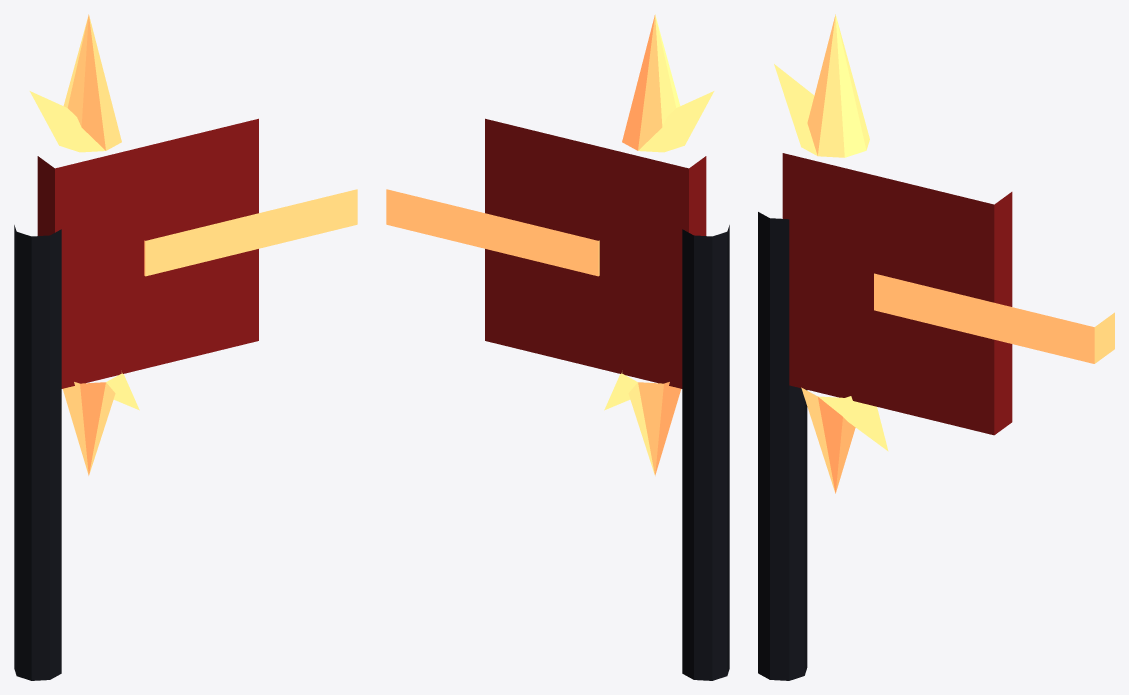
Rendered from satanic.glb.
The picture shows the model from 3 angles, left to right: view 1: azimuth 30°, elevation 25°; view 2: azimuth 150°, elevation 25°; view 3: azimuth 330°, elevation 25°; orthographic projection. The views are drawn at different scales.
Visible parts, largest first — view 1: satanic-axe-blade, satanic-haft, satanic-blood-edge, satanic-horn-top, satanic-horn-bottom; view 2: satanic-axe-blade, satanic-haft, satanic-blood-edge, satanic-horn-top, satanic-horn-bottom; view 3: satanic-axe-blade, satanic-haft, satanic-blood-edge, satanic-horn-top, satanic-horn-bottom.
Boxes of the visible parts, bbox=[...] form: satanic-axe-blade: bbox=[37, 118, 258, 388]; satanic-haft: bbox=[14, 225, 61, 680]; satanic-blood-edge: bbox=[144, 189, 357, 276]; satanic-horn-top: bbox=[29, 14, 121, 152]; satanic-horn-bottom: bbox=[62, 372, 139, 475]; satanic-axe-blade: bbox=[485, 118, 706, 388]; satanic-haft: bbox=[682, 225, 729, 680]; satanic-blood-edge: bbox=[386, 189, 599, 276]; satanic-horn-top: bbox=[622, 14, 714, 152]; satanic-horn-bottom: bbox=[604, 372, 681, 475]; satanic-axe-blade: bbox=[782, 153, 1012, 435]; satanic-haft: bbox=[758, 212, 807, 680]; satanic-blood-edge: bbox=[874, 273, 1114, 363]; satanic-horn-top: bbox=[774, 14, 869, 157]; satanic-horn-bottom: bbox=[801, 387, 888, 493].
Size of the model in its own units: 0.78 by 1.45 by 0.14.
